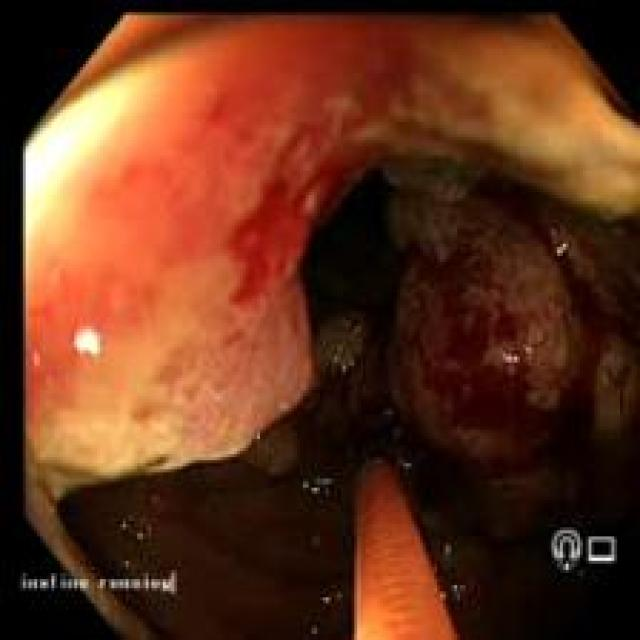blood: (415, 232, 610, 467), (232, 161, 341, 306)
color misalignment: (25, 575, 178, 596), (554, 532, 618, 572)
contrast: (77, 467, 329, 625), (311, 161, 440, 351), (445, 477, 598, 617)
instrument: (356, 459, 457, 640)
saturation: (27, 76, 141, 248)
specularity: (77, 332, 99, 356), (504, 356, 521, 361), (558, 248, 568, 256), (319, 482, 334, 485), (314, 490, 319, 493)
